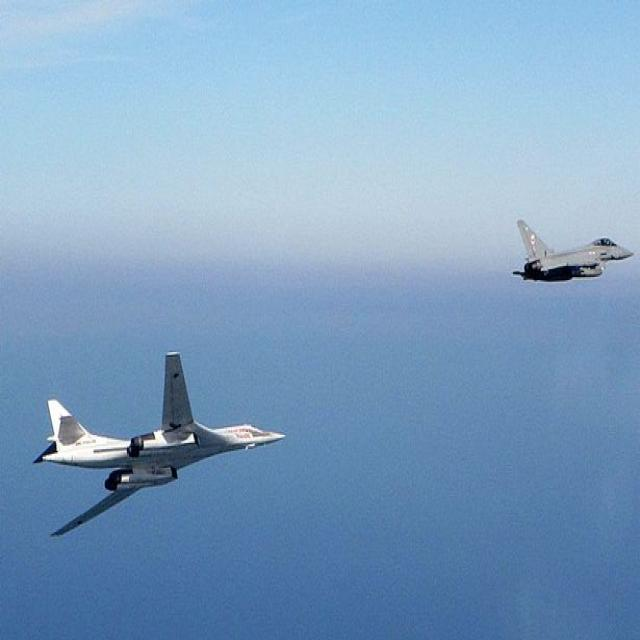MIL_Plane: (32, 350, 286, 536), (511, 218, 635, 282)
